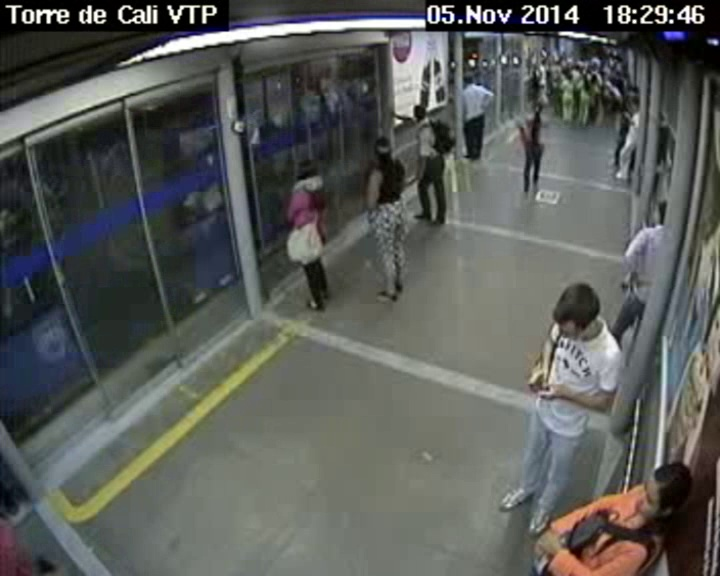person: (635, 443, 689, 523), (544, 275, 605, 340), (292, 158, 325, 185), (372, 136, 396, 163), (656, 195, 675, 226), (409, 96, 428, 120), (530, 101, 545, 114), (461, 71, 473, 85), (630, 98, 641, 113), (628, 85, 639, 97), (564, 74, 574, 82), (581, 72, 589, 82), (574, 64, 581, 72)
